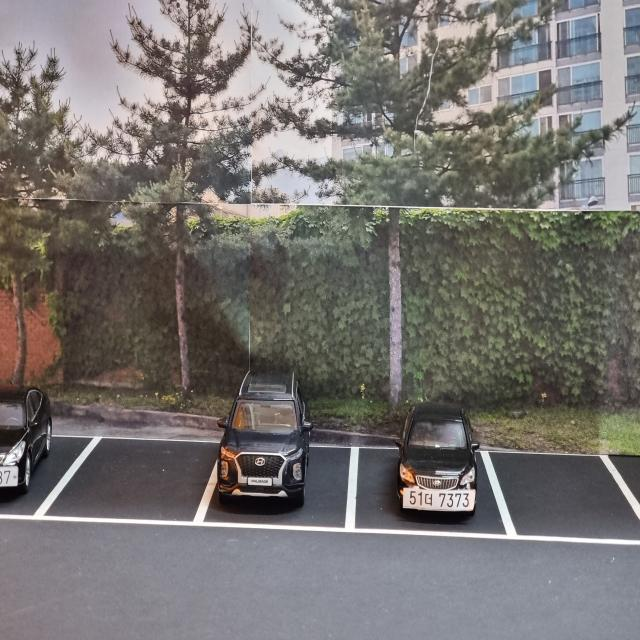empty: (40, 430, 219, 528), (484, 448, 640, 555)
occupied: (214, 371, 309, 510), (388, 390, 484, 524)
